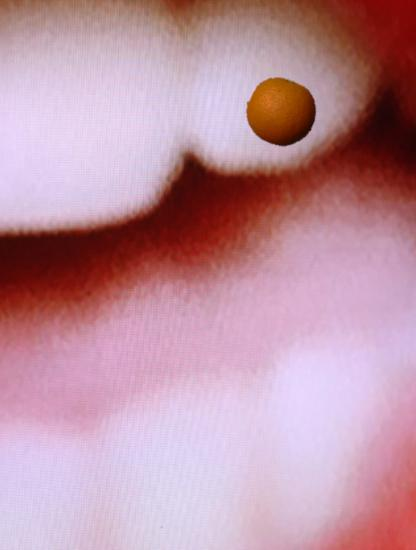Orange: (246, 77, 317, 148)
